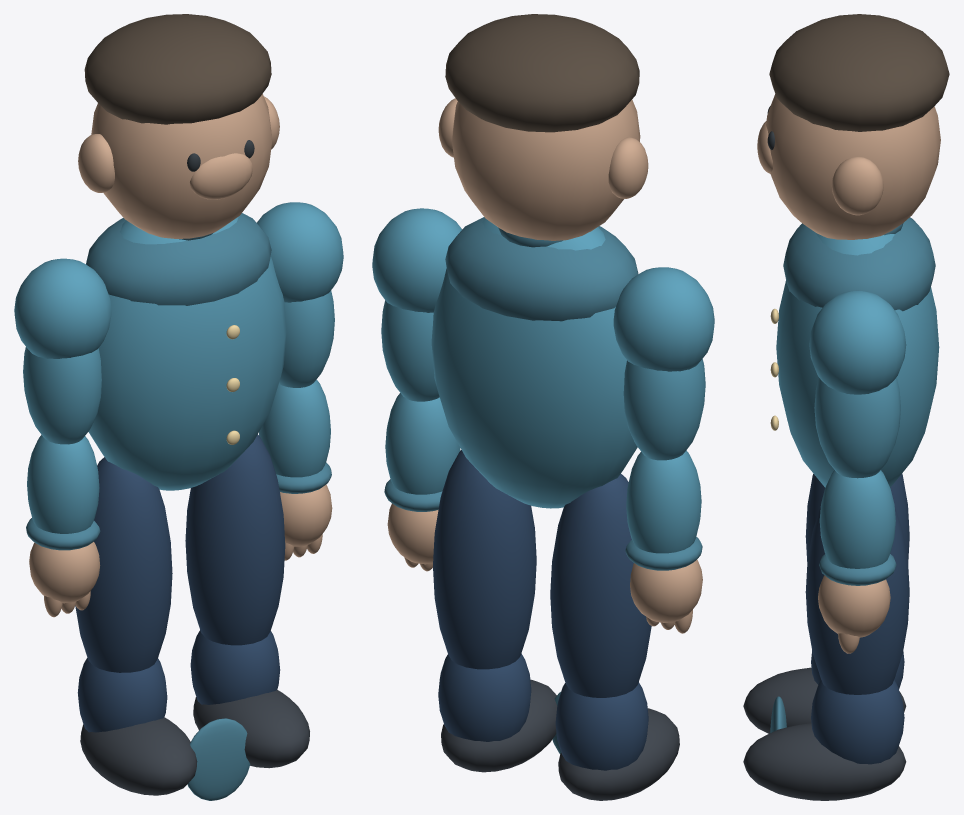
The model's file is sandbox-galore-npc-editable.glb.
The picture shows the model from 3 angles, left to right: view 1: azimuth 30°, elevation 25°; view 2: azimuth 150°, elevation 25°; view 3: azimuth 270°, elevation 25°; orthographic projection. The views are drawn at different scales.
Parts seen in each view (by area): view 1: Torso, Hair, Leg.R, Face, Leg.L, Chest Panel, ShoulderPad.L, Shoe.L, ShoulderPad.R, UpperSleeve.L, LowerSleeve.L, LowerSleeve.R (+11 smaller); view 2: Torso, Hair, Leg.R, Face, Leg.L, Chest Panel, ShoulderPad.L, ShoulderPad.R, UpperSleeve.L, LowerSleeve.L, Shin.L, Shin.R (+10 smaller); view 3: Hair, Face, Torso, Chest Panel, Leg.R, ShoulderPad.R, Shoe.R, UpperSleeve.R, LowerSleeve.R, Shin.R, Palm.R, Shoe.L (+5 smaller).
Part boxes in pixels (x1,y1,x2,y2): Torso: [88, 217, 286, 490]; Hair: [84, 14, 271, 124]; Leg.R: [185, 434, 285, 645]; Face: [91, 94, 271, 238]; Leg.L: [75, 457, 172, 672]; Chest Panel: [86, 213, 271, 305]; ShoulderPad.L: [14, 258, 111, 358]; Shoe.L: [80, 717, 197, 795]; ShoulderPad.R: [257, 202, 343, 302]; UpperSleeve.L: [23, 347, 101, 444]; LowerSleeve.L: [27, 435, 99, 533]; LowerSleeve.R: [259, 379, 330, 477]; Torso: [431, 218, 637, 508]; Hair: [445, 14, 639, 132]; Leg.R: [433, 450, 536, 669]; Face: [452, 99, 640, 240]; Leg.L: [550, 474, 651, 697]; Chest Panel: [445, 217, 638, 321]; ShoulderPad.L: [613, 267, 714, 371]; ShoulderPad.R: [372, 208, 461, 312]; UpperSleeve.L: [623, 359, 705, 460]; LowerSleeve.L: [626, 450, 701, 553]; Shin.L: [555, 682, 648, 770]; Shin.R: [438, 653, 531, 741]; Hair: [769, 14, 949, 131]; Face: [766, 94, 940, 239]; Torso: [776, 233, 939, 487]; Chest Panel: [783, 217, 935, 311]; Leg.R: [805, 506, 909, 694]; ShoulderPad.R: [809, 290, 906, 394]; Shoe.R: [743, 723, 906, 800]; UpperSleeve.R: [814, 377, 900, 478]; LowerSleeve.R: [819, 470, 895, 568]; Shin.R: [811, 680, 904, 764]; Palm.R: [818, 575, 890, 637]; Shoe.L: [743, 667, 906, 733].
Bounding box in the file's own units: 1.07 × 2.39 × 0.595.
